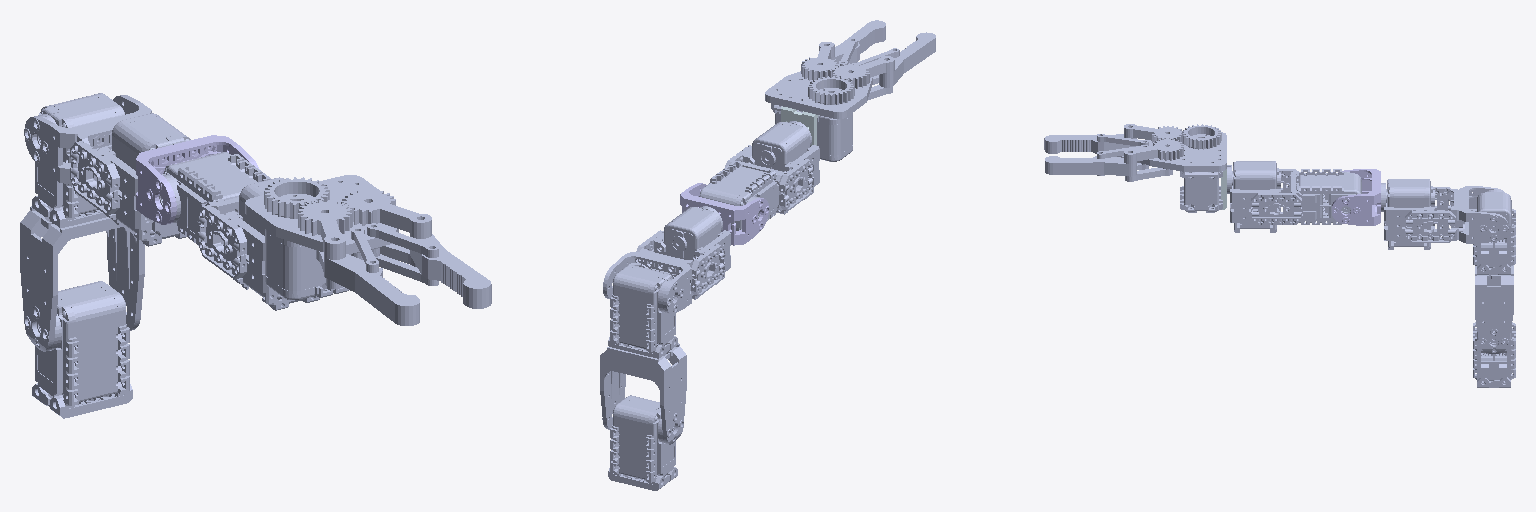
robot.urdf — robot_arm_package:
<?xml version="1.0" encoding="utf-8"?>
<!-- This URDF was automatically created by SolidWorks to URDF Exporter! Originally created by [author] ([email redacted]) 
     Commit Version: 1.5.1-0-g916b5db  Build Version: 1.5.7152.31018
     For more information, please see http://wiki.ros.org/sw_urdf_exporter -->
<robot
  name="robot_arm_package">
  <link
    name="base_link">
    <inertial>
      <origin
        xyz="-1.703E-07 0.012552 0.018751"
        rpy="0 0 0" />
      <mass
        value="0.53448" />
      <inertia
        ixx="0.00084628"
        ixy="1.5294E-10"
        ixz="3.8671E-11"
        iyy="0.00085076"
        iyz="1.1247E-06"
        izz="0.0016162" />
    </inertial>
    <visual>
      <origin
        xyz="0 0 0"
        rpy="0 0 0" />
      <geometry>
        <mesh
          filename="package://robot_arm_package/meshes/base_link.STL" />
      </geometry>
      <material
        name="">
        <color
          rgba="0.79216 0.81961 0.93333 1" />
      </material>
    </visual>
    <collision>
      <origin
        xyz="0 0 0"
        rpy="0 0 0" />
      <geometry>
        <mesh
          filename="package://robot_arm_package/meshes/base_link.STL" />
      </geometry>
    </collision>
  </link>
  <link
    name="link1">
    <inertial>
      <origin
        xyz="-0.00089534 0.028878 1.8584E-06"
        rpy="0 0 0" />
      <mass
        value="0.043351" />
      <inertia
        ixx="1.0119E-05"
        ixy="-1.8044E-07"
        ixz="4.3102E-11"
        iyy="6.4851E-06"
        iyz="1.6039E-10"
        izz="1.1794E-05" />
    </inertial>
    <visual>
      <origin
        xyz="0 0 0"
        rpy="0 0 0" />
      <geometry>
        <mesh
          filename="package://robot_arm_package/meshes/link1.STL" />
      </geometry>
      <material
        name="">
        <color
          rgba="0.79216 0.81961 0.93333 1" />
      </material>
    </visual>
    <collision>
      <origin
        xyz="0 0 0"
        rpy="0 0 0" />
      <geometry>
        <mesh
          filename="package://robot_arm_package/meshes/link1.STL" />
      </geometry>
    </collision>
  </link>
  <joint
    name="joint1"
    type="revolute">
    <origin
      xyz="0 0 0.07"
      rpy="1.5708 0 0" />
    <parent
      link="base_link" />
    <child
      link="link1" />
    <axis
      xyz="0 1 0" />
    <limit lower="-2.61" upper="2.61" effort="10" velocity="6"/>
  </joint>
  <link
    name="link2">
    <inertial>
      <origin
        xyz="-0.00089534 0.080878 1.8584E-06"
        rpy="0 0 0" />
      <mass
        value="0.043351" />
      <inertia
        ixx="1.0119E-05"
        ixy="-1.8044E-07"
        ixz="4.3102E-11"
        iyy="6.4851E-06"
        iyz="1.6039E-10"
        izz="1.1794E-05" />
    </inertial>
    <visual>
      <origin
        xyz="0 0 0"
        rpy="0 0 0" />
      <geometry>
        <mesh
          filename="package://robot_arm_package/meshes/link2.STL" />
      </geometry>
      <material
        name="">
        <color
          rgba="0.79216 0.81961 0.93333 1" />
      </material>
    </visual>
    <collision>
      <origin
        xyz="0 0 0"
        rpy="0 0 0" />
      <geometry>
        <mesh
          filename="package://robot_arm_package/meshes/link2.STL" />
      </geometry>
    </collision>
  </link>
  <joint
    name="joint2"
    type="revolute">
    <origin
      xyz="0 0.0415 0"
      rpy="0 0 0" />
    <parent
      link="link1" />
    <child
      link="link2" />
    <axis
      xyz="-1 0 0" />
    <limit lower="-2.61" upper="2.61" effort="10" velocity="6"/>
  </joint>
  <link
    name="link3">
    <inertial>
      <origin
        xyz="1.6804E-06 0.0016081 0.057295"
        rpy="0 0 0" />
      <mass
        value="0.050642" />
      <inertia
        ixx="1.302E-05"
        ixy="1.6036E-10"
        ixz="-4.1292E-11"
        iyy="9.7207E-06"
        iyz="1.8028E-07"
        izz="1.2995E-05" />
    </inertial>
    <visual>
      <origin
        xyz="0 0 0"
        rpy="0 0 0" />
      <geometry>
        <mesh
          filename="package://robot_arm_package/meshes/link3.STL" />
      </geometry>
      <material
        name="">
        <color
          rgba="0.79216 0.81961 0.93333 1" />
      </material>
    </visual>
    <collision>
      <origin
        xyz="0 0 0"
        rpy="0 0 0" />
      <geometry>
        <mesh
          filename="package://robot_arm_package/meshes/link3.STL" />
      </geometry>
    </collision>
  </link>
  <joint
    name="joint3"
    type="revolute">
    <origin
      xyz="0 0.0935 0"
      rpy="0 0 0" />
    <parent
      link="link2" />
    <child
      link="link3" />
    <axis
      xyz="-1 0 0" />
    <limit lower="-2.61" upper="2.61" effort="10" velocity="6"/>
  </joint>
  <link
    name="link4">
    <inertial>
      <origin
        xyz="1.555E-07 2.2857E-06 -0.01092"
        rpy="0 0 0" />
      <mass
        value="0.0072915" />
      <inertia
        ixx="1.2258E-06"
        ixy="-3.1959E-14"
        ixz="-3.3697E-12"
        iyy="3.2356E-06"
        iyz="-1.5698E-10"
        izz="2.8766E-06" />
    </inertial>
    <visual>
      <origin
        xyz="0 0 0"
        rpy="0 0 0" />
      <geometry>
        <mesh
          filename="package://robot_arm_package/meshes/link4.STL" />
      </geometry>
      <material
        name="">
        <color
          rgba="0.82353 0.82353 1 1" />
      </material>
    </visual>
    <collision>
      <origin
        xyz="0 0 0"
        rpy="0 0 0" />
      <geometry>
        <mesh
          filename="package://robot_arm_package/meshes/link4.STL" />
      </geometry>
    </collision>
  </link>
  <joint
    name="joint4"
    type="revolute">
    <origin
      xyz="0 0.0145 0.0845"
      rpy="3.1416 0 0" />
    <parent
      link="link3" />
    <child
      link="link4" />
    <axis
      xyz="0 0 -1" />
    <limit lower="-2.61" upper="2.61" effort="10" velocity="6"/>
  </joint>
  <link
    name="link5">
    <inertial>
      <origin
        xyz="-0.0004465 0.00094001 0.040759"
        rpy="0 0 0" />
      <mass
        value="0.086701" />
      <inertia
        ixx="2.1913E-05"
        ixy="2.0086E-10"
        ixz="1.8039E-07"
        iyy="1.8279E-05"
        iyz="1.8028E-07"
        izz="1.6604E-05" />
    </inertial>
    <visual>
      <origin
        xyz="0 0 0"
        rpy="0 0 0" />
      <geometry>
        <mesh
          filename="package://robot_arm_package/meshes/link5.STL" />
      </geometry>
      <material
        name="">
        <color
          rgba="0.79216 0.81961 0.93333 1" />
      </material>
    </visual>
    <collision>
      <origin
        xyz="0 0 0"
        rpy="0 0 0" />
      <geometry>
        <mesh
          filename="package://robot_arm_package/meshes/link5.STL" />
      </geometry>
    </collision>
  </link>
  <joint
    name="joint5"
    type="revolute">
    <origin
      xyz="0 0 -0.026"
      rpy="-3.1416 0 0" />
    <parent
      link="link4" />
    <child
      link="link5" />
    <axis
      xyz="1 0 0" />
    <limit lower="-2.61" upper="2.61" effort="10" velocity="6"/>
  </joint>
  <link
    name="link6">
    <inertial>
      <origin
        xyz="-0.00039565 -0.16337 0.14585"
        rpy="0 0 0" />
      <mass
        value="0.85288" />
      <inertia
        ixx="0.014859"
        ixy="4.5987E-05"
        ixz="-4.5521E-05"
        iyy="0.0085457"
        iyz="0.0059264"
        izz="0.0080232" />
    </inertial>
    <visual>
      <origin
        xyz="0 0 0"
        rpy="0 0 0" />
      <geometry>
        <mesh
          filename="package://robot_arm_package/meshes/link6.STL" />
      </geometry>
      <material
        name="">
        <color
          rgba="0.87843 0.94902 1 1" />
      </material>
    </visual>
    <collision>
      <origin
        xyz="0 0 0"
        rpy="0 0 0" />
      <geometry>
        <mesh
          filename="package://robot_arm_package/meshes/link6.STL" />
      </geometry>
    </collision>
  </link>
  <joint
    name="joint6"
    type="revolute">
    <origin
      xyz="0 0.0145 0.089"
      rpy="1.5708 0 0" />
    <parent
      link="link5" />
    <child
      link="link6" />
    <axis
      xyz="0 1 0" />
    <limit lower="-2.61" upper="2.61" effort="10" velocity="6"/>
  </joint>
  <link
    name="gripper_link">
    <inertial>
      <origin
        xyz="-0.072688 -0.00054351 0.0076086"
        rpy="0 0 0" />
      <mass
        value="0.087059" />
      <inertia
        ixx="1.6558E-05"
        ixy="-3.3399E-07"
        ixz="-6.2264E-08"
        iyy="1.8653E-05"
        iyz="-1.8531E-07"
        izz="2.6631E-05" />
    </inertial>
    <visual>
      <origin
        xyz="0 0 0"
        rpy="0 0 0" />
      <geometry>
        <mesh
          filename="package://robot_arm_package/meshes/gripper_link.STL" />
      </geometry>
      <material
        name="">
        <color
          rgba="0.79216 0.81961 0.93333 1" />
      </material>
    </visual>
    <collision>
      <origin
        xyz="0 0 0"
        rpy="0 0 0" />
      <geometry>
        <mesh
          filename="package://robot_arm_package/meshes/gripper_link.STL" />
      </geometry>
    </collision>
  </link>
  <joint
    name="gripper_joint"
    type="fixed">
    <origin
      xyz="-0.0030831 0.11225 -0.018888"
      rpy="0 0 1.5708" />
    <parent
      link="link6" />
    <child
      link="gripper_link" />
    <axis
      xyz="0 0 0" />
  </joint>
</robot>

--- Facts derived from the render (not from the file) ---
Views: 3 orthographic renders of the robot side by side, from view 1: azimuth 30°, elevation 25°; view 2: azimuth 150°, elevation 25°; view 3: azimuth 270°, elevation 25°.
Model robot_arm_package with 8 links and 7 joints (6 revolute, 1 fixed), rooted at base_link, posed every joint at zero.
Visible links, largest first — view 1: gripper_link, link2, link3, link1, link5, link4; view 2: gripper_link, link2, link5, link3, link1, link4, link6; view 3: gripper_link, link5, link3, link2, link4, link1.
Link boxes in pixels (x1=…): gripper_link: x1=245, y1=175, x2=491, y2=325; link2: x1=20, y1=93, x2=144, y2=351; link3: x1=24, y1=95, x2=190, y2=246; link1: x1=32, y1=281, x2=132, y2=418; link5: x1=159, y1=152, x2=319, y2=310; link4: x1=136, y1=135, x2=259, y2=224; gripper_link: x1=765, y1=20, x2=935, y2=161; link2: x1=600, y1=265, x2=686, y2=444; link5: x1=699, y1=121, x2=819, y2=230; link3: x1=603, y1=206, x2=730, y2=313; link1: x1=608, y1=395, x2=677, y2=490; link4: x1=680, y1=183, x2=769, y2=245; link6: x1=781, y1=106, x2=818, y2=145; gripper_link: x1=1044, y1=124, x2=1226, y2=212; link5: x1=1227, y1=161, x2=1361, y2=232; link3: x1=1381, y1=179, x2=1508, y2=249; link2: x1=1473, y1=190, x2=1515, y2=353; link4: x1=1332, y1=169, x2=1380, y2=225; link1: x1=1473, y1=321, x2=1515, y2=387.
Size in the robot's own frame: 0.06 by 0.3519 by 0.196 metres.
7 mesh visuals loaded from 8 distinct referenced files (7 binary STL); not drawn: 1 (reference not matched to a file when rendering).
